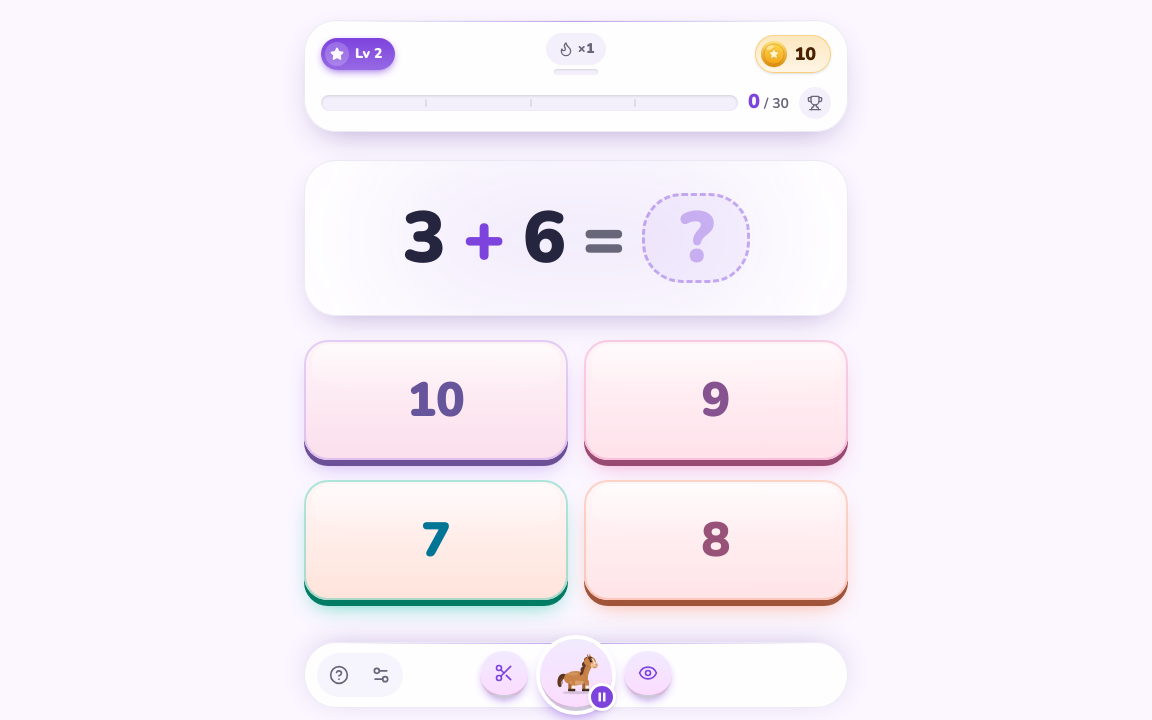
Test: GameScreen › loses the game, and the level, when the points sink to a quarter of the goal below zero
Click the button "10" at (436, 400), box [304,340,568,460]
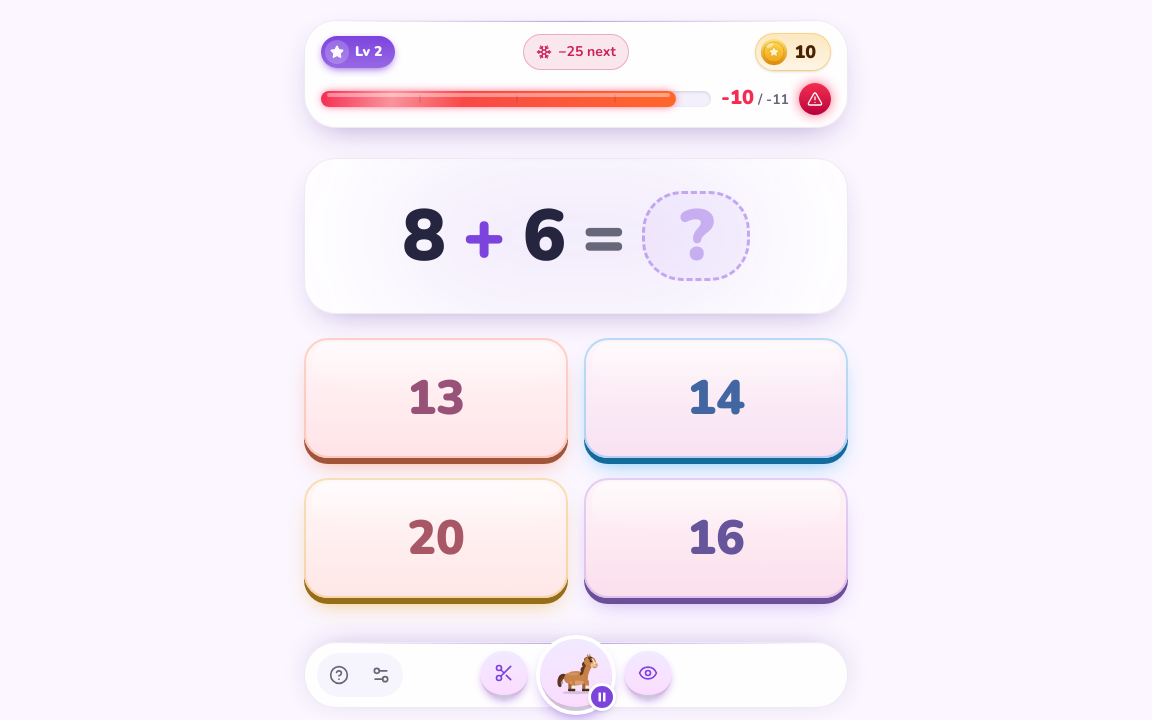
Click the button "13" at (436, 398), box [304,338,568,458]
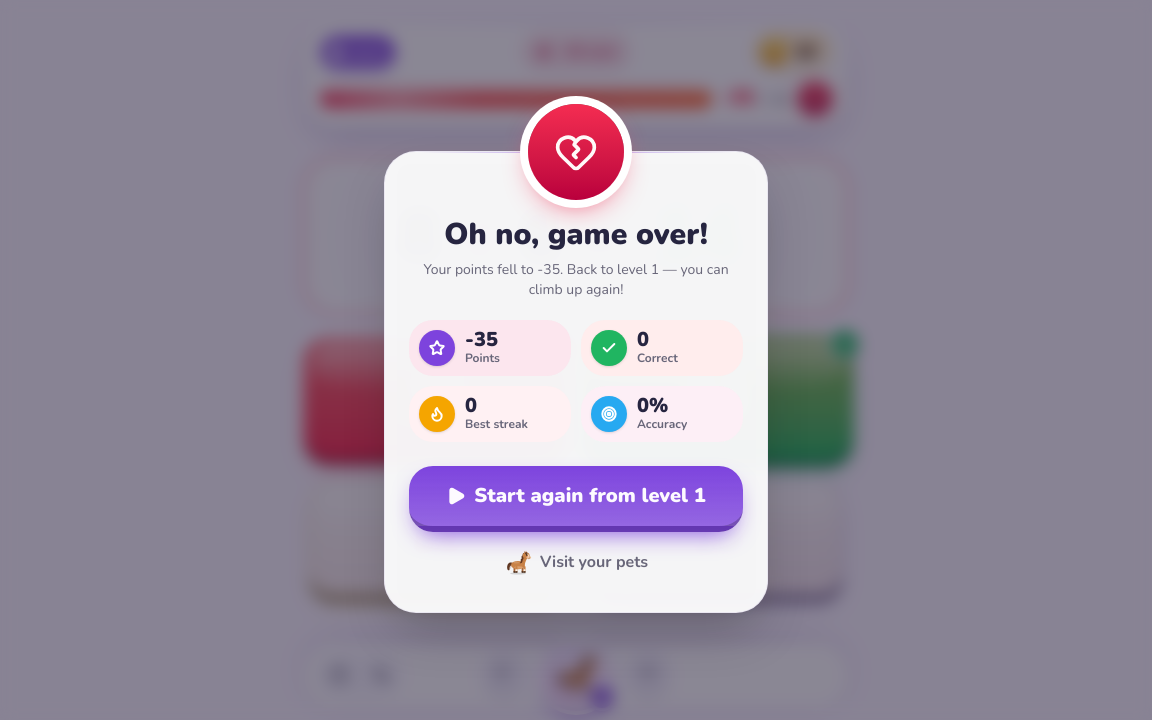
Now the heading "Oh no, game over!" is shown, box [444,214,708,255]
Click the button "Start again from level 1" at (576, 499), box [409,466,743,532]
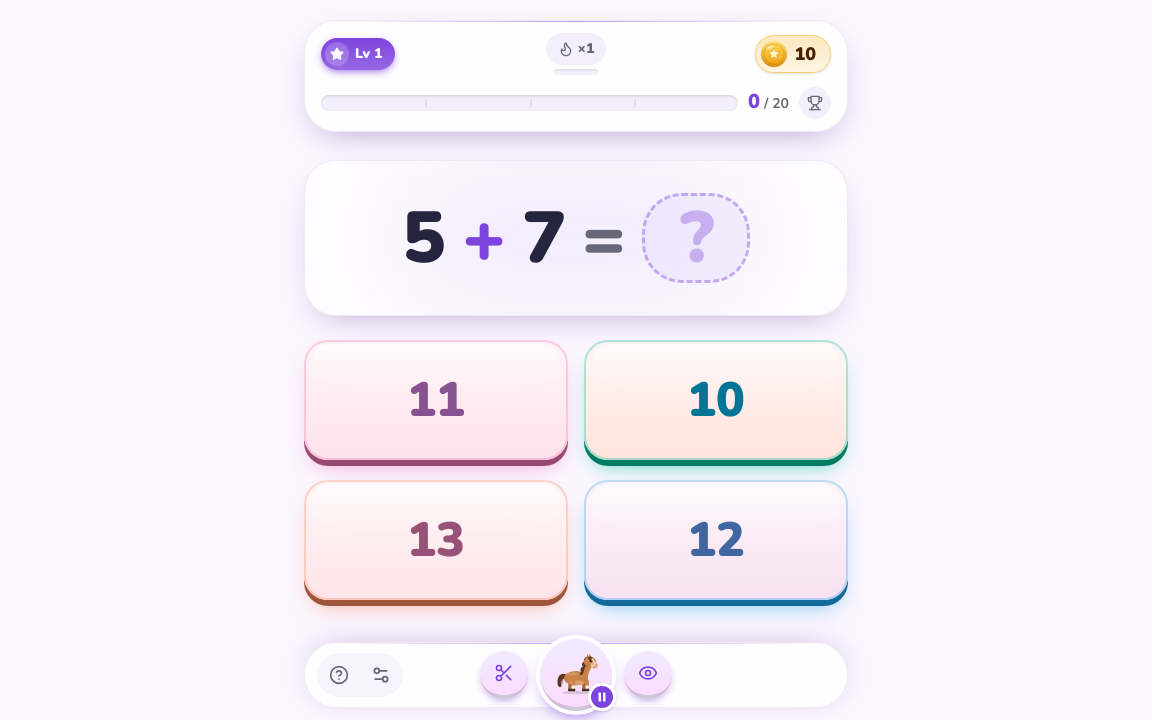
Now the text "Lv 1" is shown, box [355,44,382,64]
Now the dialog is gone
